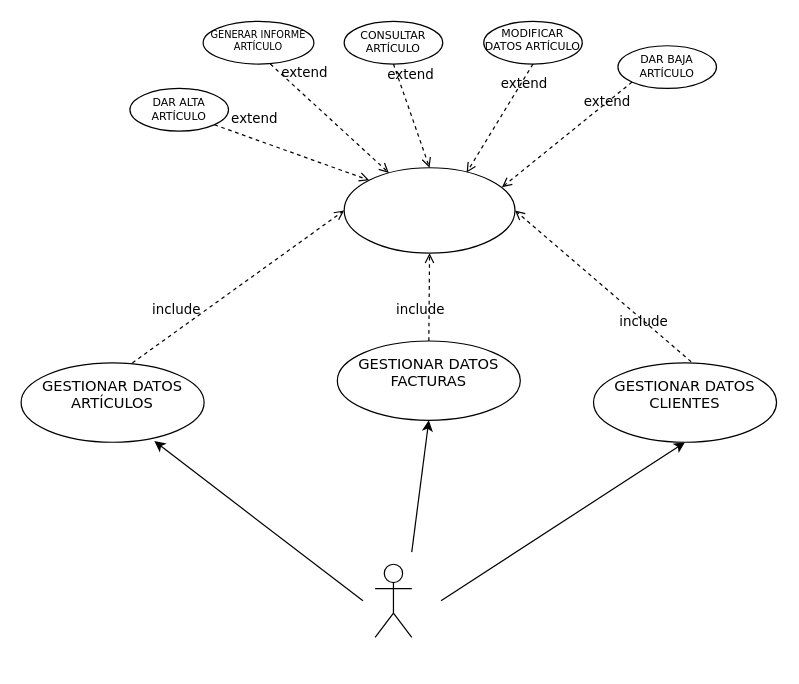
The diagram is 799 pixels wide and 684 high, and some of its shapes have lost their labels. Here are the shapes that lost their labels. From the top down, the centre of each, then its label:
point (429, 210): Mantener Datos
point (393, 600): Gestor
